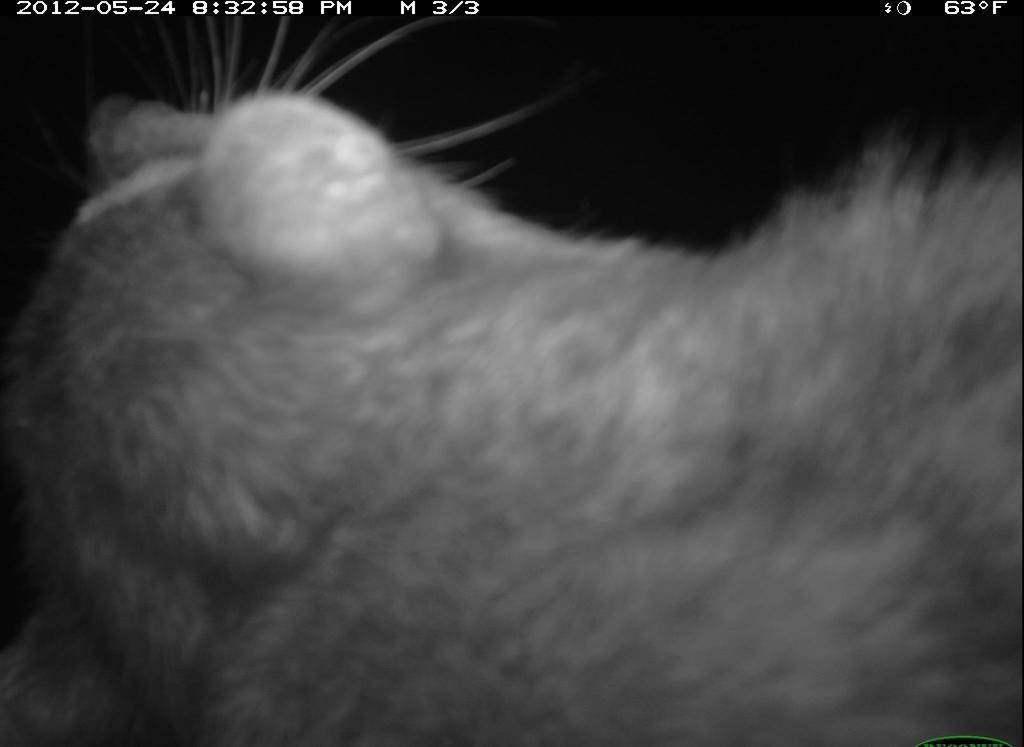raccoon: (2, 76, 1023, 745)
